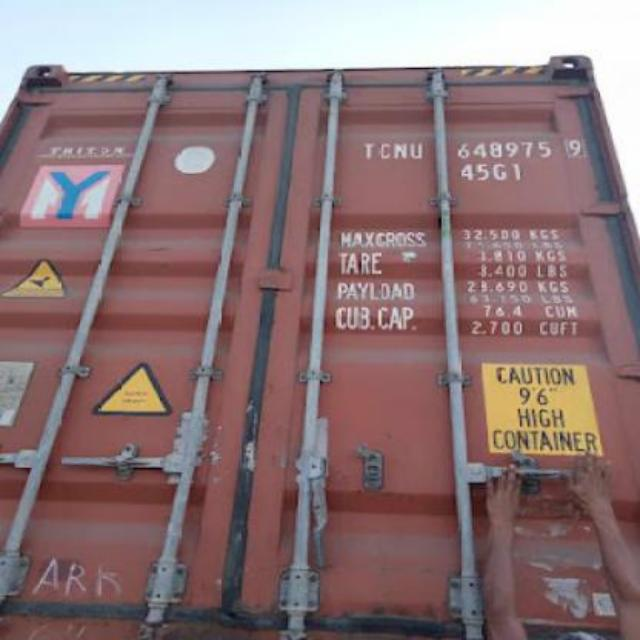4: (474, 143, 486, 159)
5: (536, 142, 554, 160)
6: (456, 144, 469, 160)
7: (520, 141, 536, 159)
8: (488, 142, 504, 160)
9: (568, 139, 584, 157), (504, 141, 518, 157)
C: (378, 144, 392, 160)
N: (392, 142, 408, 160)
T: (362, 142, 376, 160)
U: (408, 142, 424, 160)
